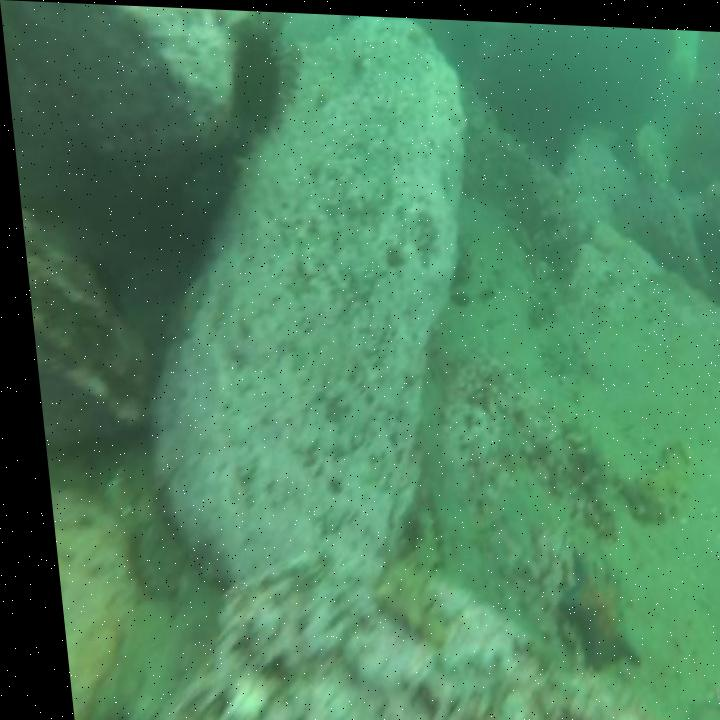echinus: (223, 26, 289, 138)
holothurian: (358, 544, 436, 652), (603, 427, 687, 519)
starfish: (547, 538, 629, 665)
